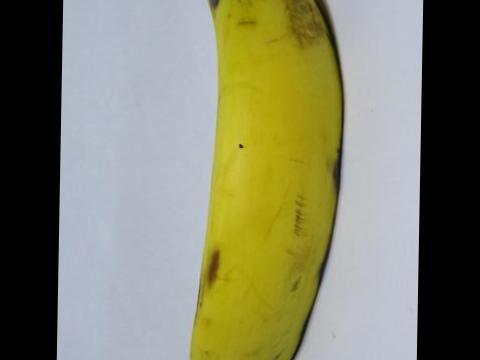freshripe: (165, 0, 361, 359)
